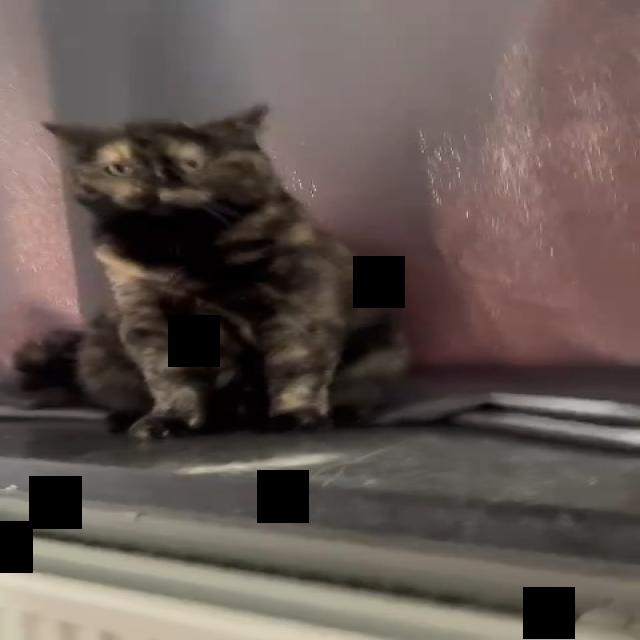authorized: (27, 102, 412, 440)
